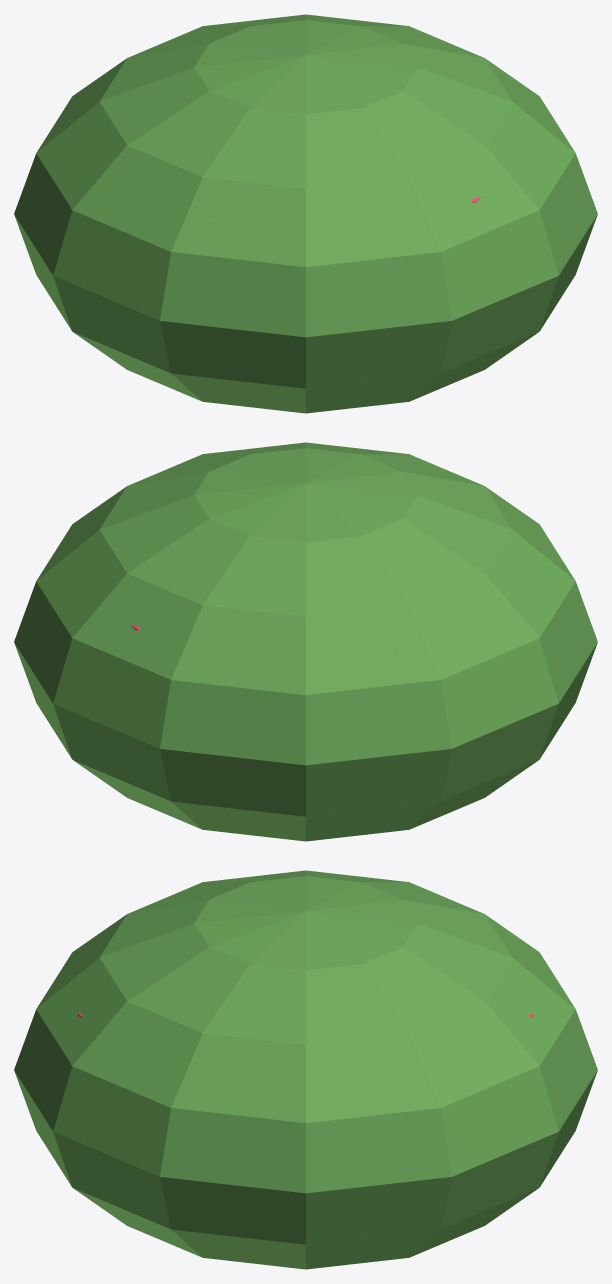
File: env_romantic_rose.glb
The picture shows the model from 3 angles, top to bottom: view 1: azimuth 30°, elevation 25°; view 2: azimuth 150°, elevation 25°; view 3: azimuth 270°, elevation 25°; orthographic projection.
Parts seen in each view (by area): view 1: Sphere; view 2: Sphere; view 3: Sphere.
Boxes of the visible parts, bbox=[...] form: Sphere: bbox=[14, 14, 597, 413]; Sphere: bbox=[14, 442, 597, 841]; Sphere: bbox=[14, 870, 597, 1269].
Size of the model in its own units: 1 by 0.6 by 1.
